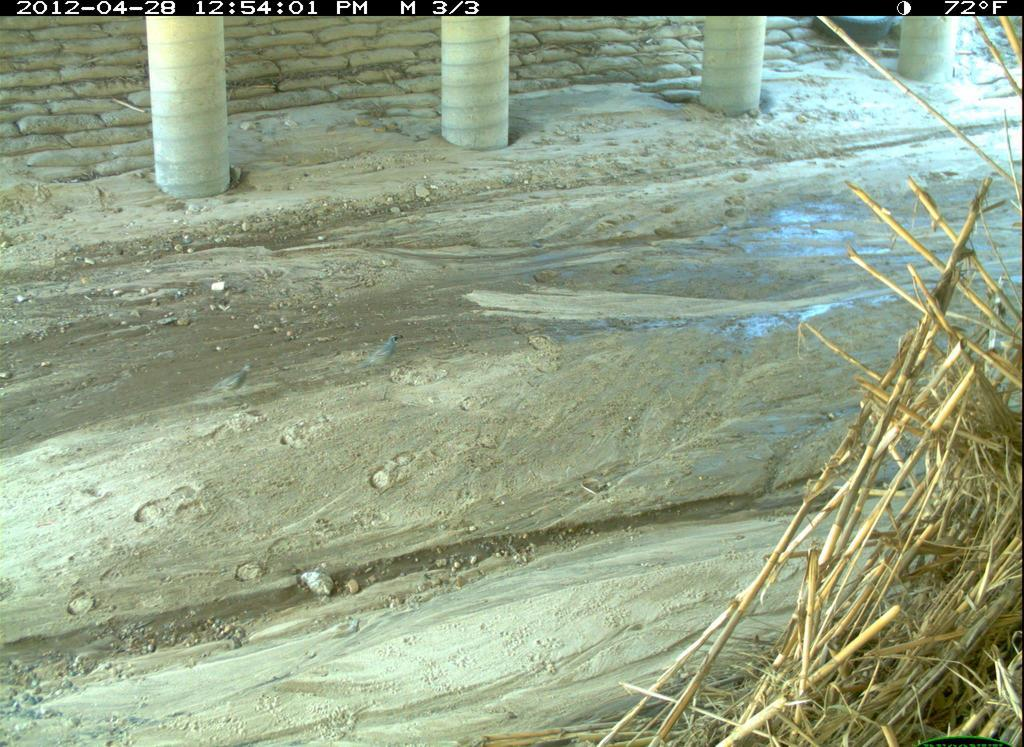bird: (353, 329, 408, 385), (212, 361, 263, 405)
